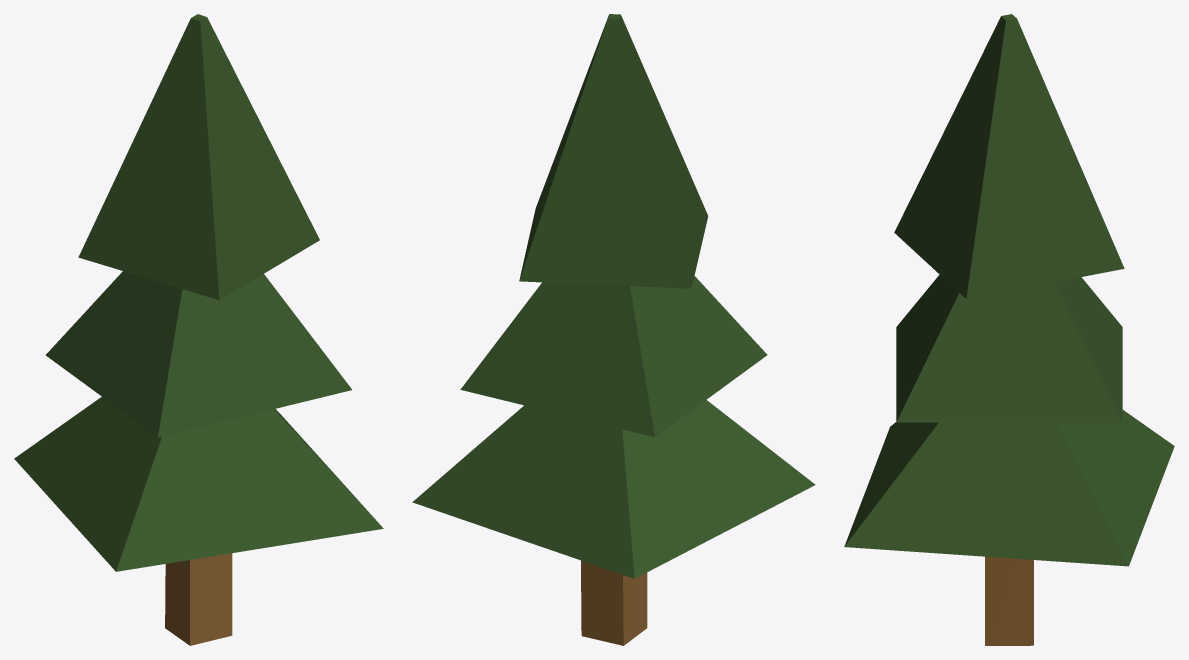
The model's file is Tree1.obj.
The picture shows the model from 3 angles, left to right: view 1: azimuth 30°, elevation 25°; view 2: azimuth 150°, elevation 25°; view 3: azimuth 270°, elevation 25°; orthographic projection.
Parts seen in each view (by area): view 1: Tree1; view 2: Tree1; view 3: Tree1.
Boxes of the visible parts, box(x1,y1,x2,y2) form: Tree1: box(14, 14, 383, 645); Tree1: box(412, 14, 815, 645); Tree1: box(844, 14, 1174, 645).
Size of the model in its own units: 1.69 by 3.49 by 1.69.
Materials: 2 (2 with a texture image).
